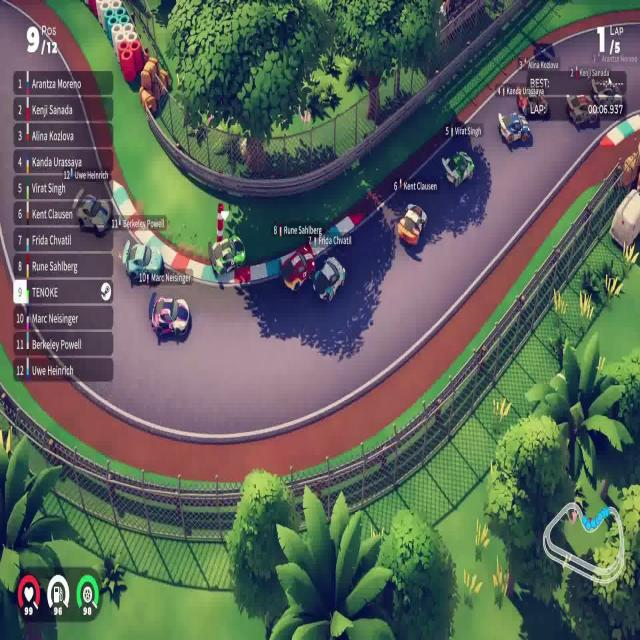car: (279, 242, 315, 294), (124, 241, 164, 286), (150, 294, 190, 338), (208, 233, 246, 277), (312, 255, 346, 303), (75, 193, 112, 236), (397, 202, 427, 248), (591, 75, 623, 116), (440, 150, 474, 188), (497, 110, 531, 146), (565, 92, 598, 126), (516, 90, 548, 120)
